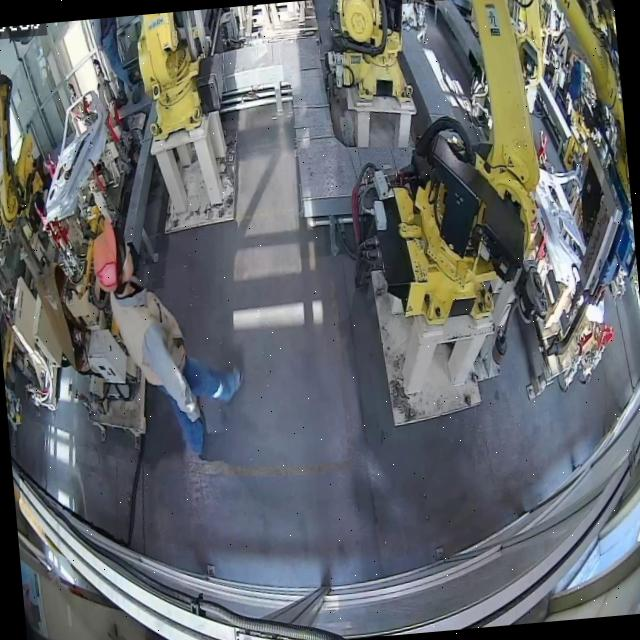Person: (52, 205, 251, 469), (80, 15, 142, 109)
